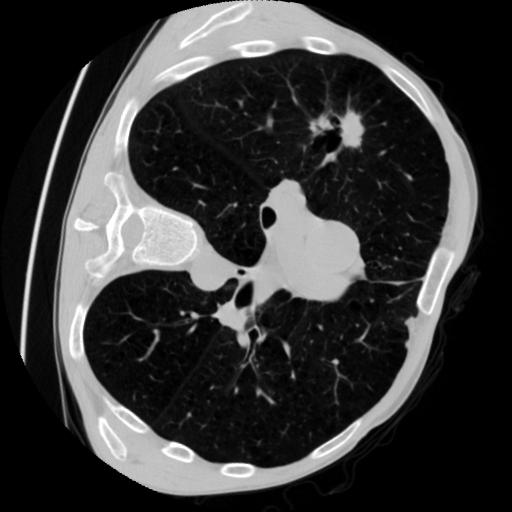nodule: (316, 103, 366, 153)
